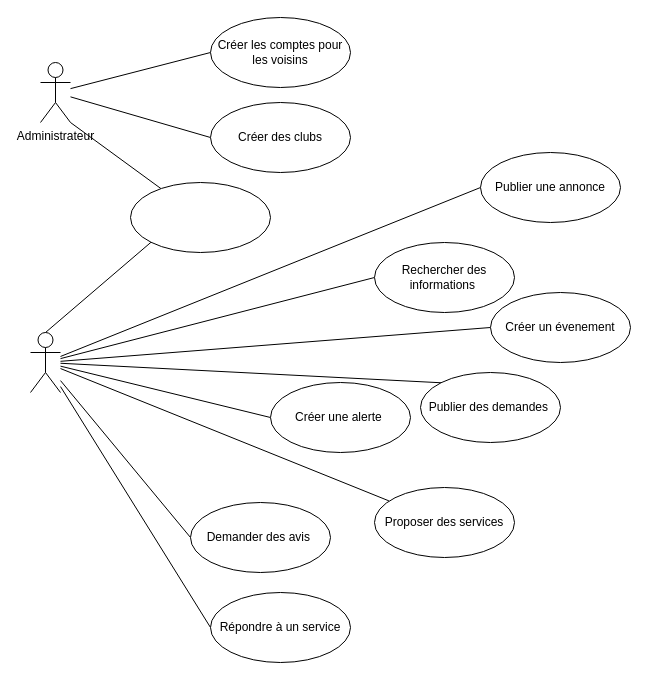
Image size: 648x680. Some labels were removed from this diagram. The shapes that lost their labels are listed below. From the top down, each one's centre as x and y in pixels, then its label:
[200,217]: Authentification
[45,362]: Vosin
